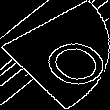O_NW: (10, 22, 100, 88)
